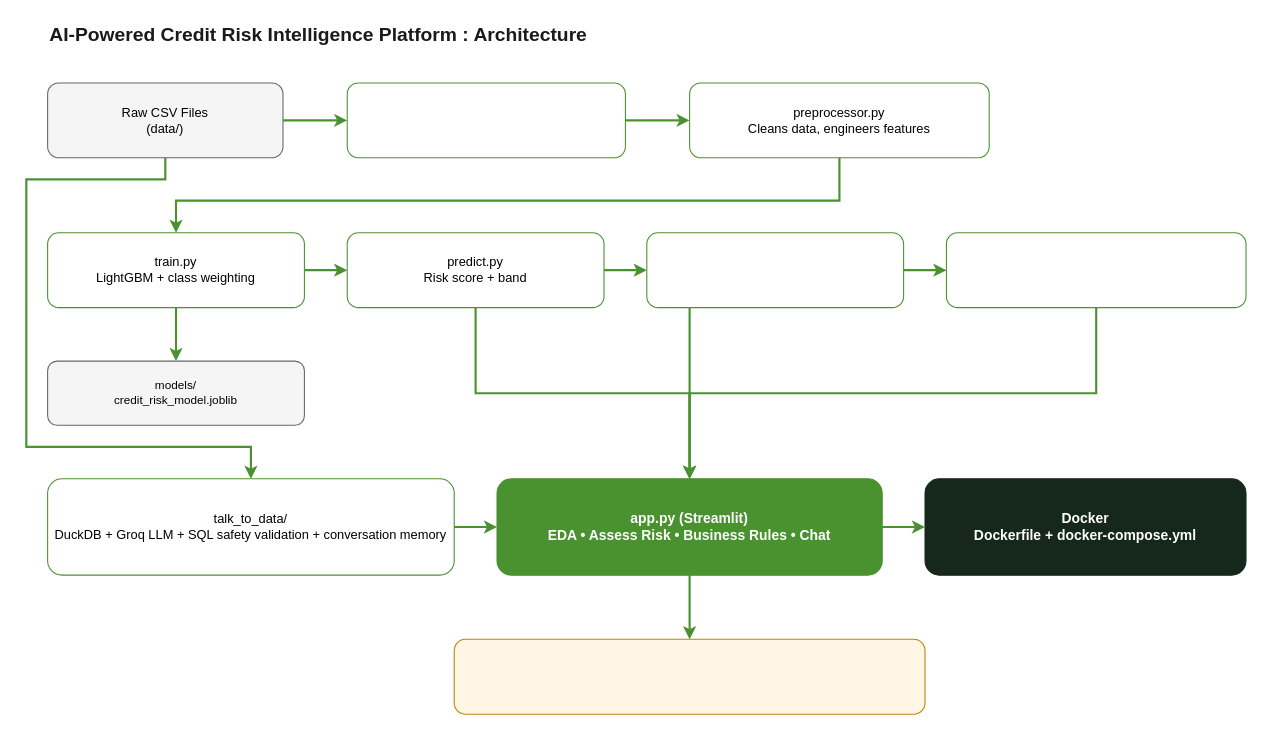
Image size: 1266x733. Some labels were removed from this diagram. The shapes that lost their labels are listed below. From the top down, each one's box as (x1, y1, x2, y2) in pixels, then its label:
(346, 82, 625, 158): loader.py Loads 8 Home Credit tables
(646, 232, 904, 308): explain.py SHAP factors
(945, 232, 1246, 308): business_rules.py Readable surrogate decision rules
(453, 638, 925, 714): Evaluator runs: docker compose up --build → http://localhost:8501
